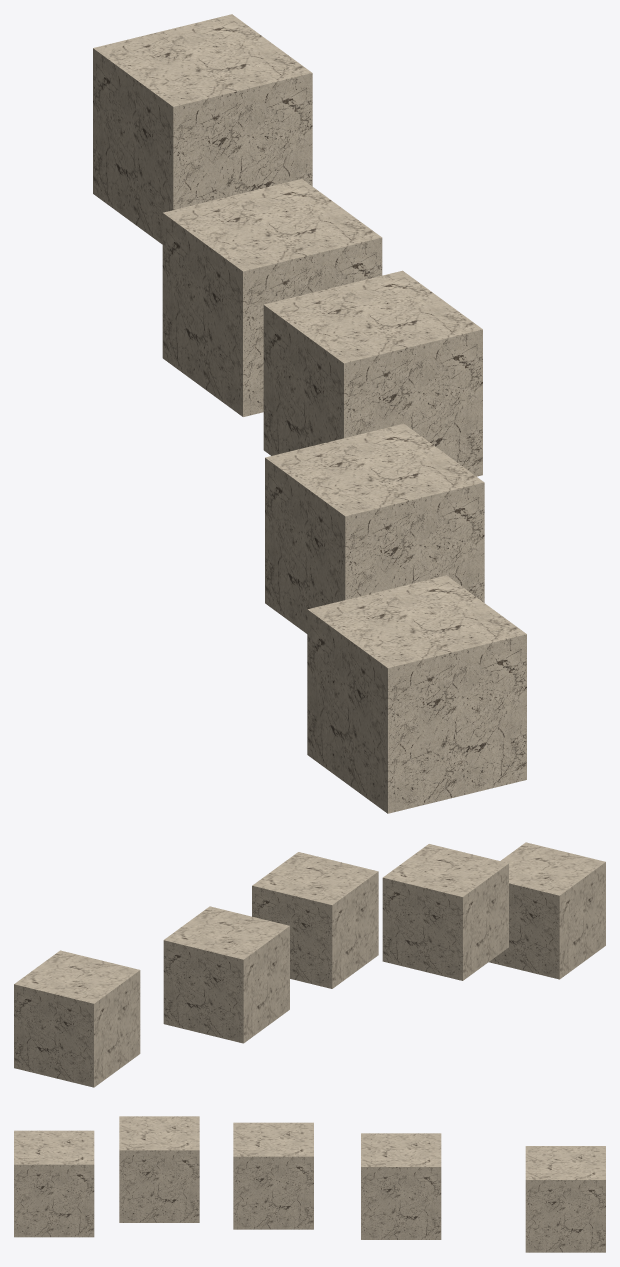
3 views of the same model, one above another, from view 1: azimuth 30°, elevation 25°; view 2: azimuth 150°, elevation 25°; view 3: azimuth 270°, elevation 25° (orthographic). The views are drawn at different scales.
Visible parts, largest first — view 1: Cube.003, Cube.001, Cube.004, Cube, Cube.002; view 2: Cube.001, Cube.002, Cube, Cube.004, Cube.003; view 3: Cube.004, Cube.003, Cube, Cube.001, Cube.002.
Boxes of the visible parts, left/top/right/bottom form: Cube.003: left=307, top=575, right=526, bottom=813; Cube.001: left=93, top=14, right=312, bottom=244; Cube.004: left=263, top=270, right=482, bottom=476; Cube: left=265, top=423, right=484, bottom=633; Cube.002: left=162, top=179, right=382, bottom=416; Cube.001: left=14, top=950, right=140, bottom=1087; Cube.002: left=163, top=906, right=289, bottom=1043; Cube: left=382, top=844, right=508, bottom=980; Cube.004: left=252, top=852, right=378, bottom=988; Cube.003: left=489, top=842, right=605, bottom=979; Cube.004: left=233, top=1122, right=313, bottom=1229; Cube.003: left=14, top=1130, right=94, bottom=1237; Cube: left=119, top=1116, right=199, bottom=1222; Cube.001: left=525, top=1146, right=605, bottom=1252; Cube.002: left=361, top=1133, right=441, bottom=1239.
Bounding box in the file's own units: 6.27 × 3.57 × 14.73.
Materials: 5 (5 with a texture image).
